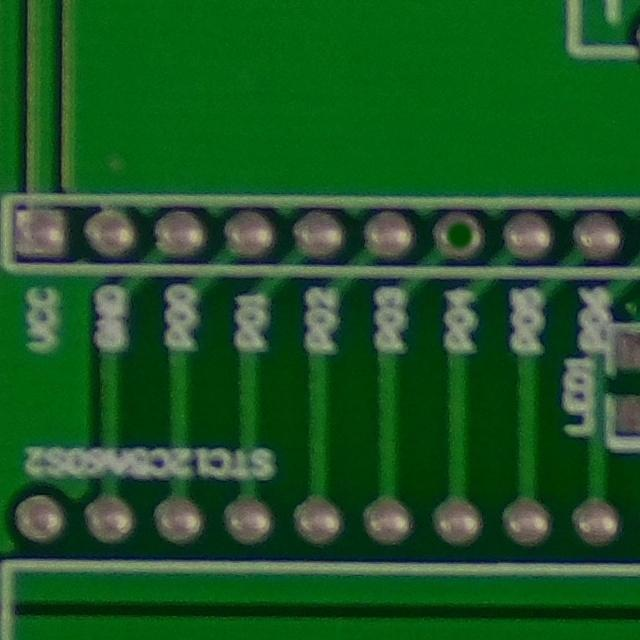missing_hole: (424, 207, 488, 265)
